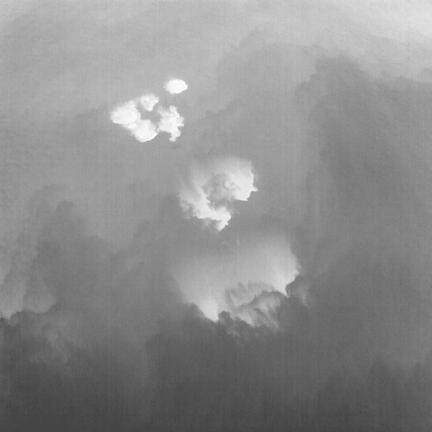flukeprints: (157, 105, 183, 141), (111, 100, 140, 129), (131, 116, 157, 141), (164, 78, 187, 94), (140, 94, 159, 111)
